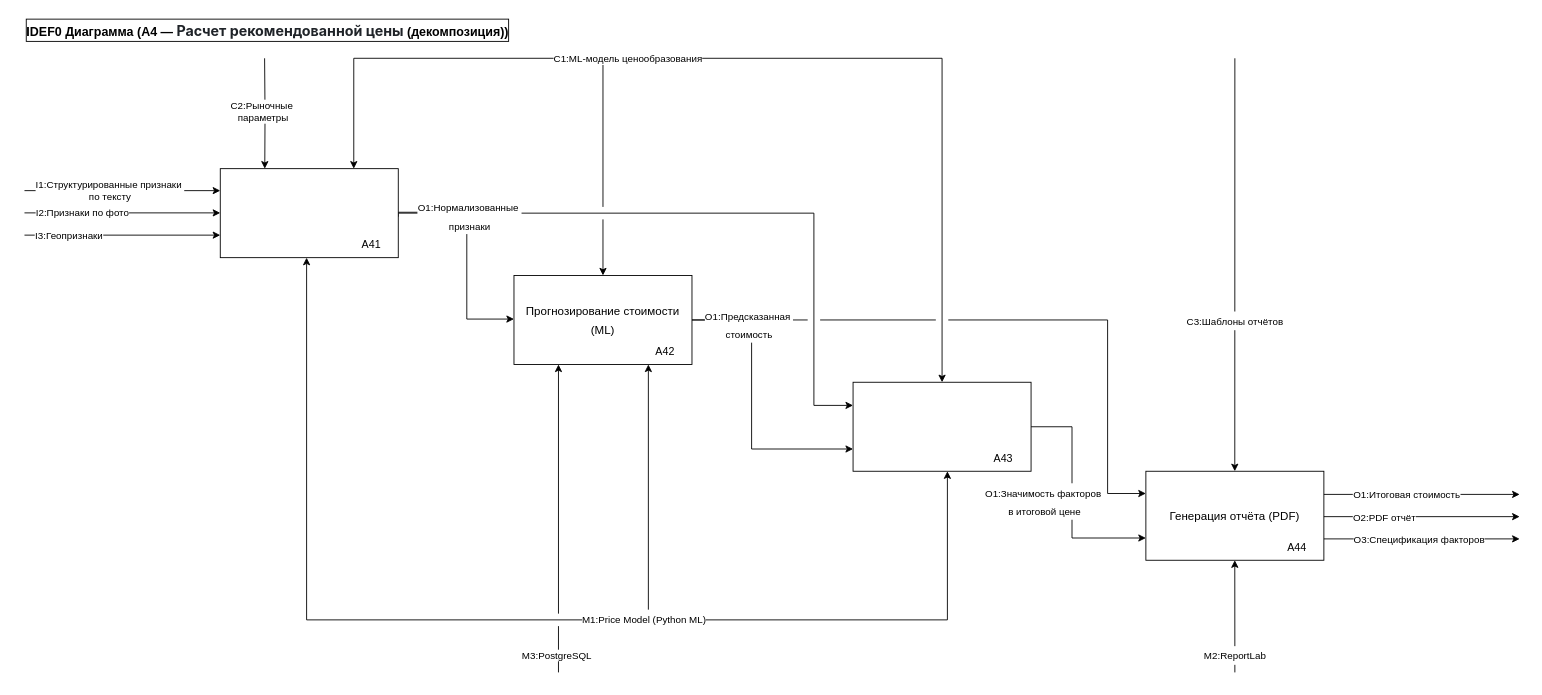
This 1542x695 diagram has some shape labels left out. Here are the shapes that lost their labels. From the top down, the box of each, then its label:
(219, 168, 398, 258): Нормализация признаков
(852, 381, 1031, 471): Объяснение факторов (SHAP / Feature importance)
